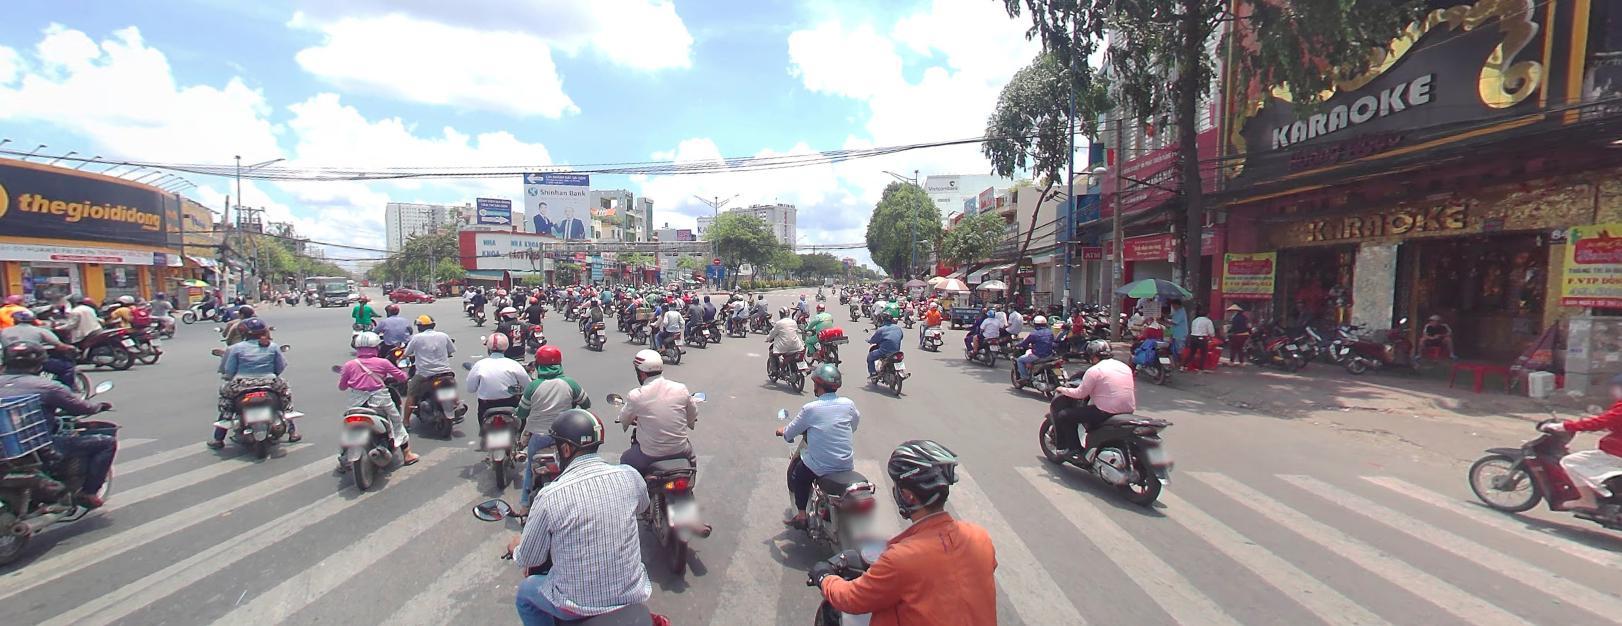Cam dung va do: (893, 270, 899, 276)
Cam nguoc chieu: (714, 256, 720, 262)
